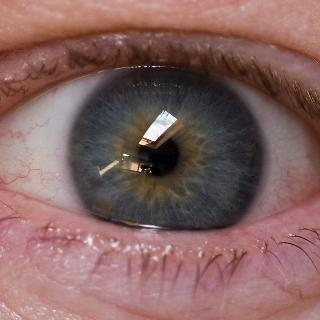pupil: (136, 132, 181, 177)
